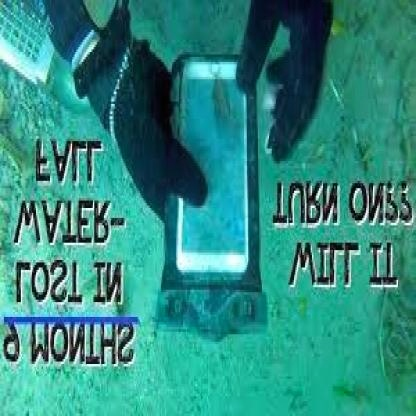cellphone: (176, 64, 248, 278)
